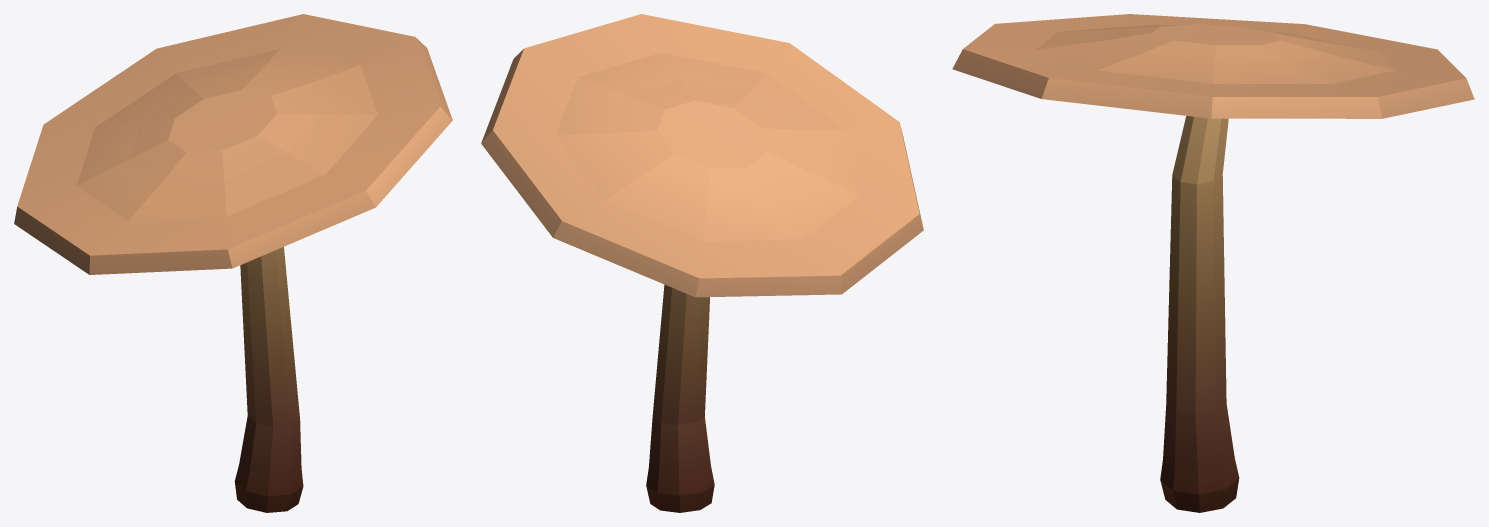
Rendered from Mushroom_4.fbx.
The picture shows the model from 3 angles, left to right: view 1: azimuth 30°, elevation 25°; view 2: azimuth 150°, elevation 25°; view 3: azimuth 270°, elevation 25°; orthographic projection. The views are drawn at different scales.
Visible parts, largest first — view 1: Mushroom_4; view 2: Mushroom_4; view 3: Mushroom_4.
Part boxes in pixels (left/top/right/bottom): Mushroom_4: left=14, top=14, right=452, bottom=512; Mushroom_4: left=481, top=14, right=923, bottom=512; Mushroom_4: left=952, top=14, right=1474, bottom=512.
Bounding box in the file's own units: 38.66 × 41.74 × 40.59.
